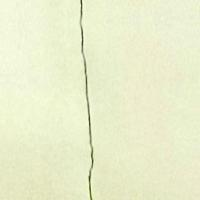crack: (60, 0, 124, 199)
